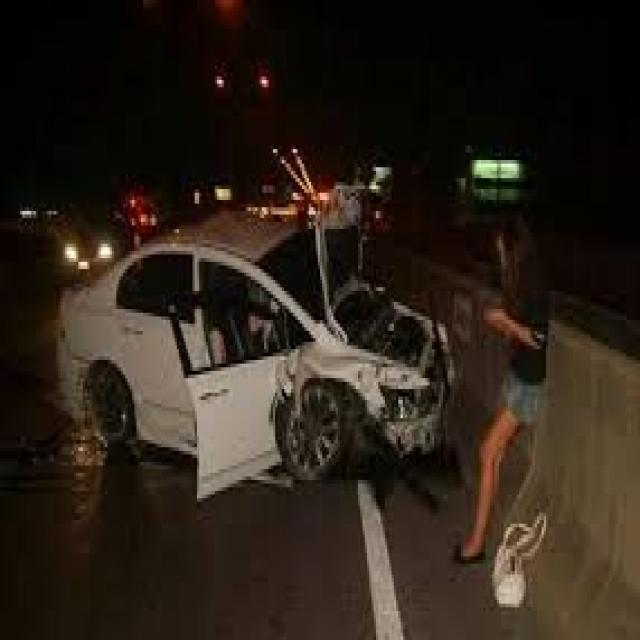accident: (51, 200, 457, 489)
